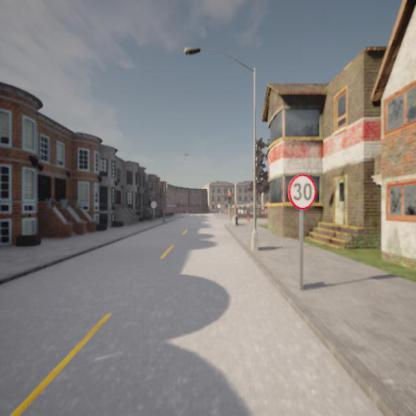traffic_light_red: (227, 192, 231, 203)
traffic_sign_30: (288, 173, 316, 210)
